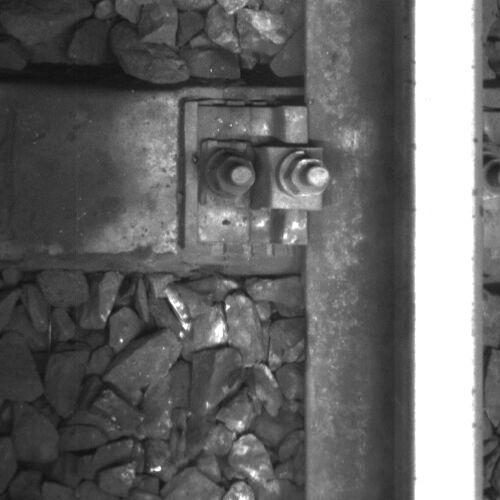kb: (196, 102, 332, 243)
nut: (210, 150, 258, 198), (282, 156, 332, 199)
rail: (410, 1, 483, 500)
tie_concr: (1, 93, 306, 258)
